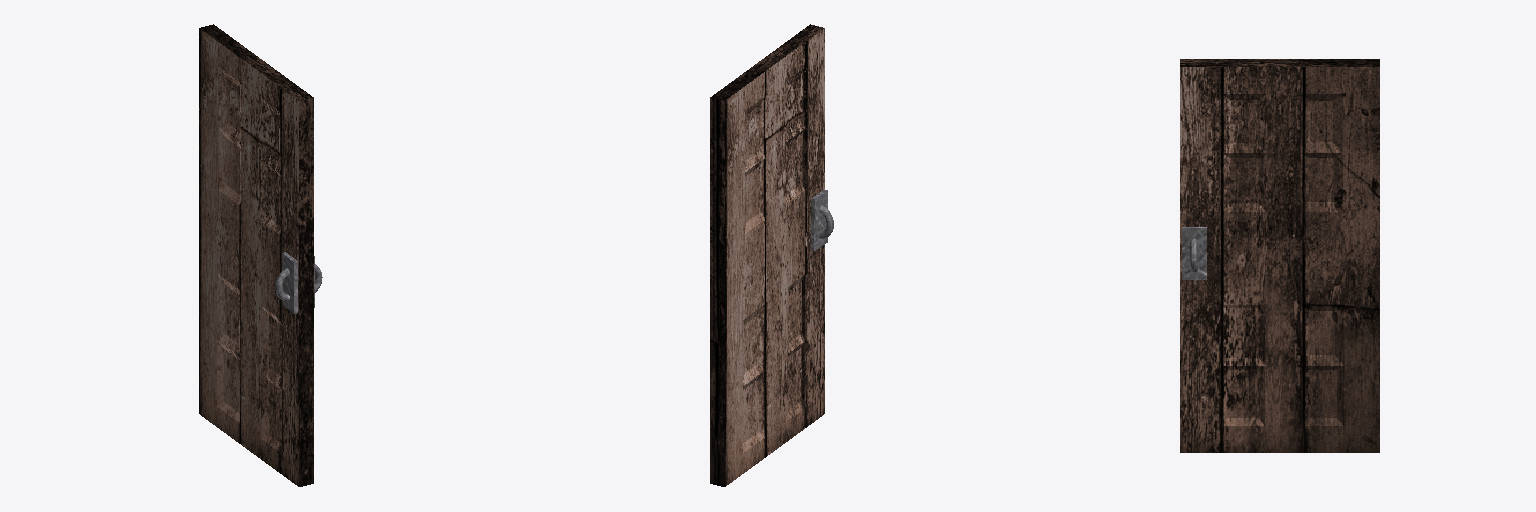
3 views of the same model, side by side, from view 1: azimuth 30°, elevation 25°; view 2: azimuth 150°, elevation 25°; view 3: azimuth 270°, elevation 25° (orthographic).
Visible parts, largest first — view 1: Cube; view 2: Cube; view 3: Cube.
Part boxes in pixels (x1,y1,x2,y2): Cube: (199, 24, 322, 486); Cube: (710, 24, 833, 486); Cube: (1180, 59, 1379, 452).
Bounding box in the file's own units: 0.7936 × 6.34 × 2.97.
Materials: 1 (1 with a texture image).